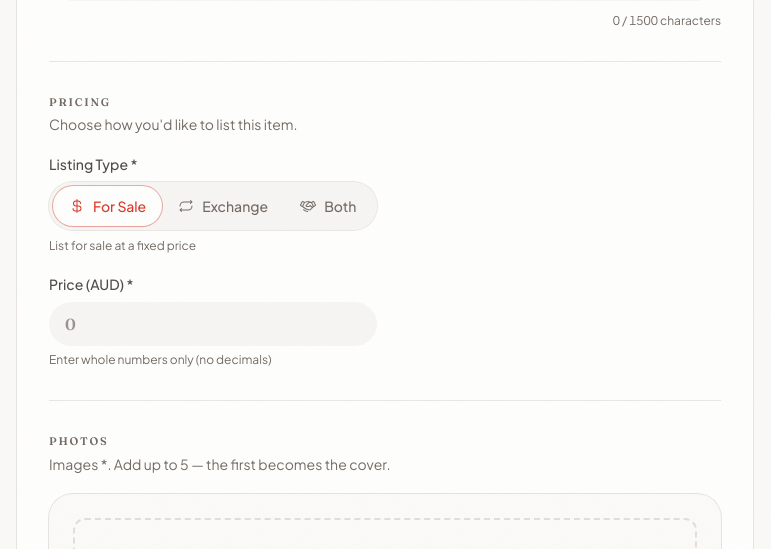
Test: PostAd › should hide price field when "exchange" type is selected
(page scrolled)
Click the tab "Exchange".
click(223, 206)  # box [162,186,284,226]
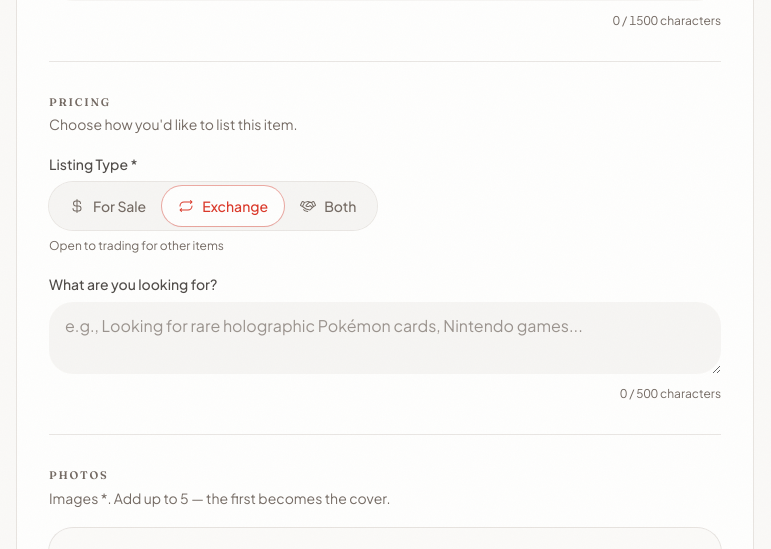
Expected: the text "Price (AUD) *" is gone
Expected: the text "What are you looking for?" is shown, [49,275,217,293]
